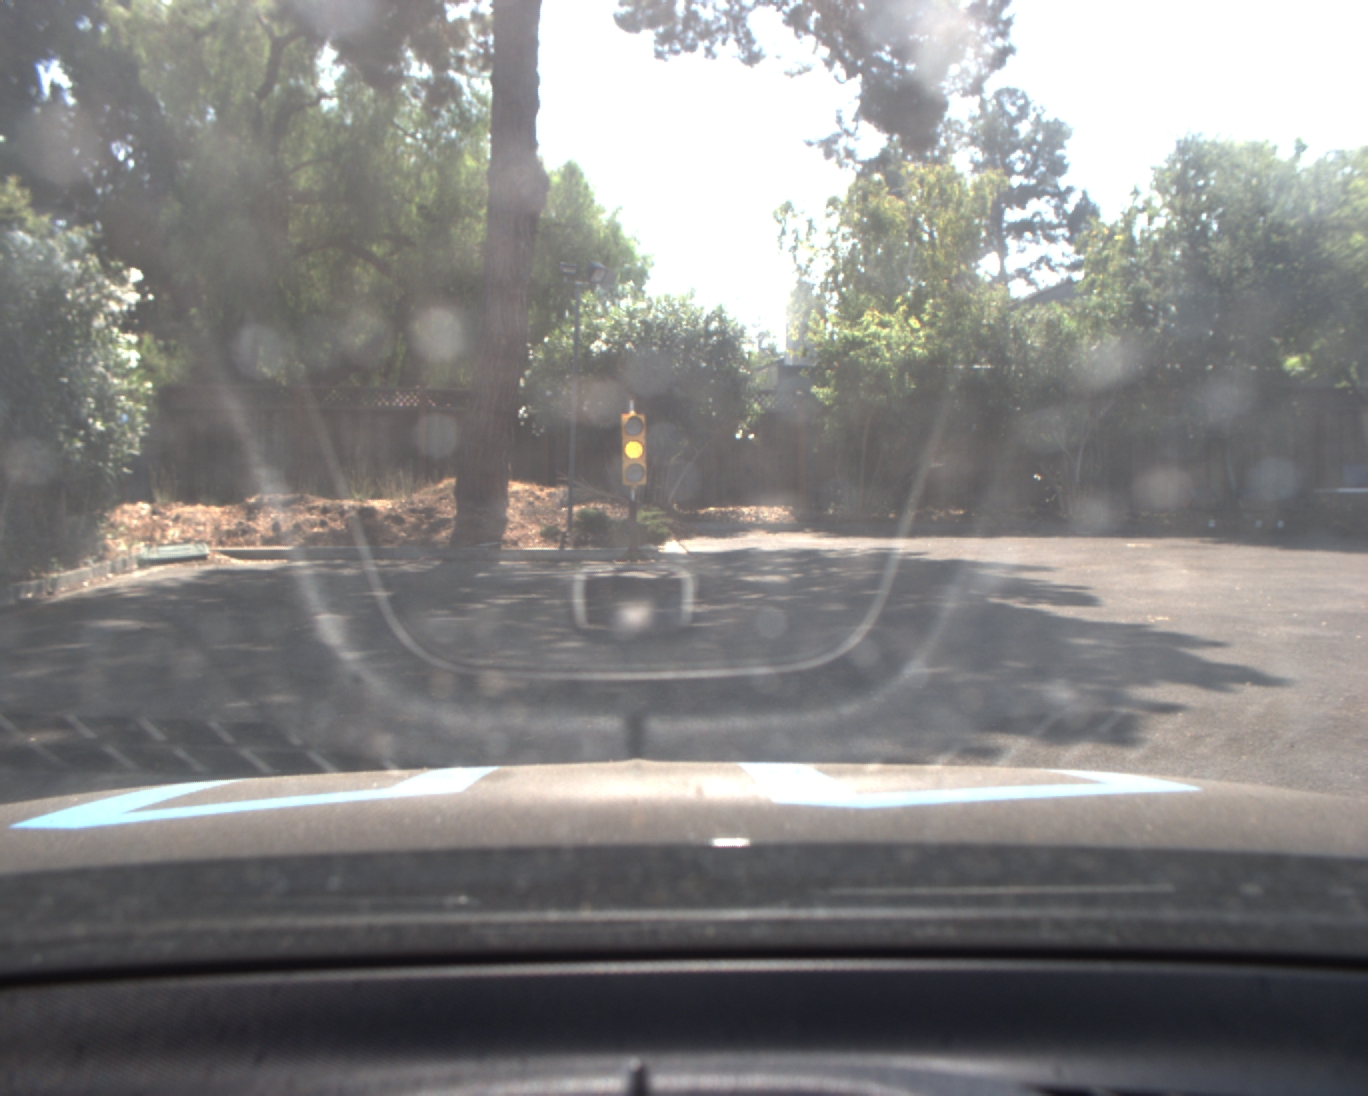yellow: (617, 411, 648, 489)
